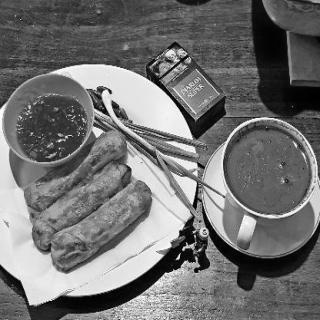objects: (146, 41, 226, 138)
